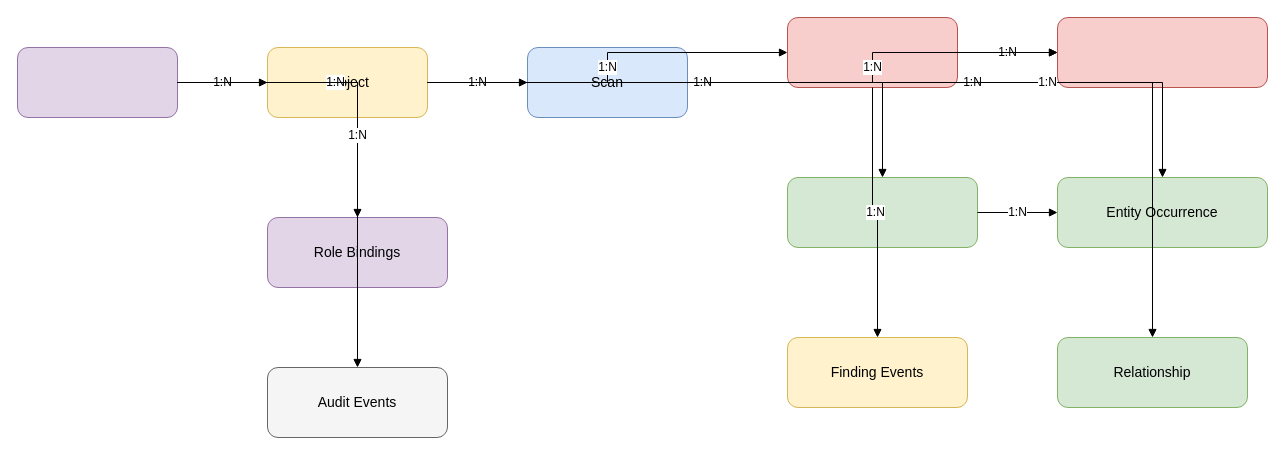
Some shapes in this 1285 by 455 pixel diagram are drawn without their labels. Each missing label, with the centre of its shape:
Finding: the point at 872,52
Finding Occurrence: the point at 1162,52
Inventory Entity: the point at 882,212
Tenant: the point at 97,82
